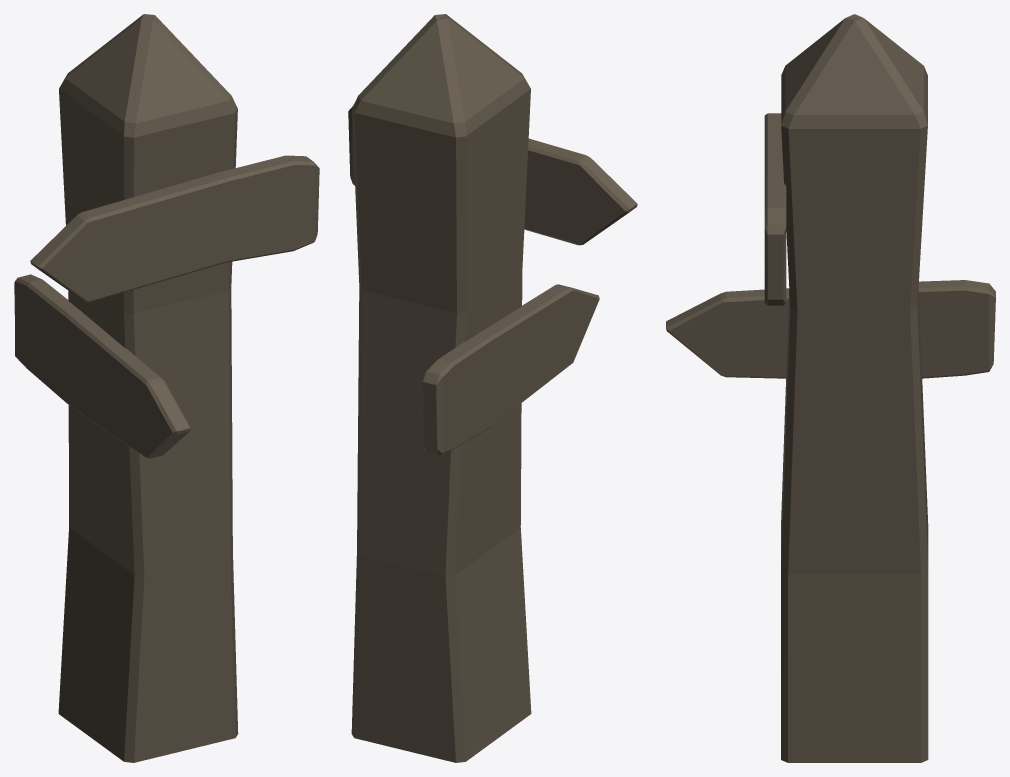
The model's file is signpost_01.glb.
3 renders of one model, left to right at view 1: azimuth 30°, elevation 25°; view 2: azimuth 150°, elevation 25°; view 3: azimuth 270°, elevation 25°, orthographic.
Visible parts, largest first — view 1: Signpost_01; view 2: Signpost_01; view 3: Signpost_01.
Part boxes in pixels (left/top/right/bottom): Signpost_01: left=14, top=14, right=319, bottom=762; Signpost_01: left=348, top=14, right=637, bottom=762; Signpost_01: left=666, top=14, right=995, bottom=762.
Bounding box in the file's own units: 0.4523 × 1.08 × 0.4523.
1 material, 1 textured.
